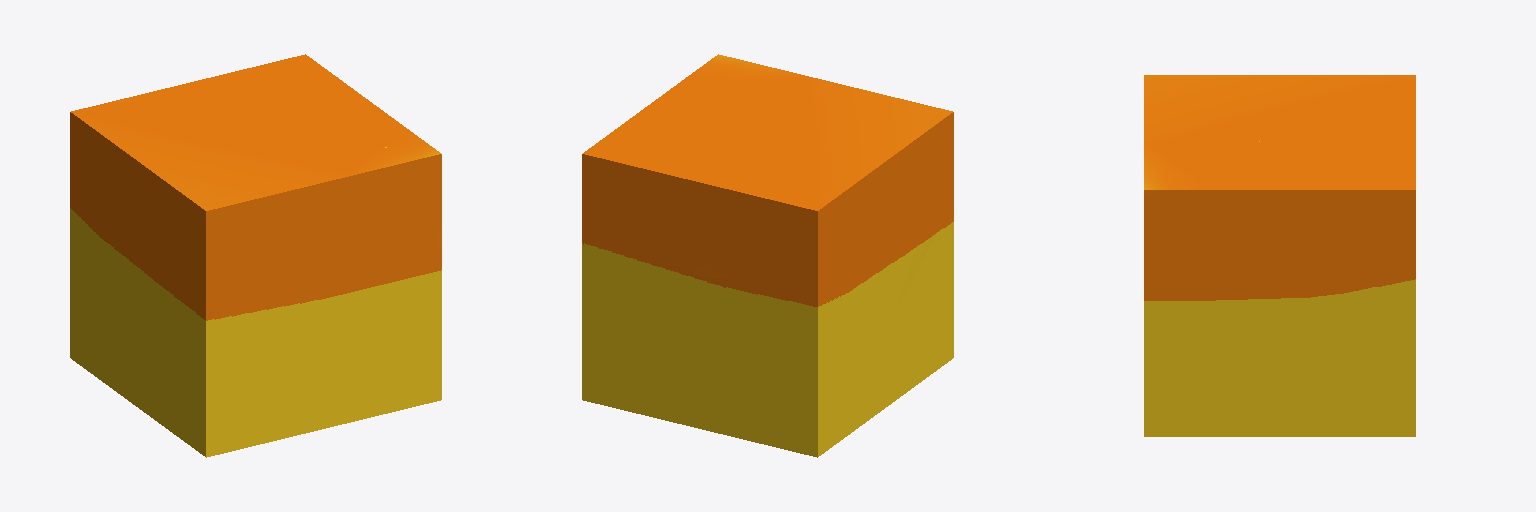
3 renders of one model, left to right at view 1: azimuth 30°, elevation 25°; view 2: azimuth 150°, elevation 25°; view 3: azimuth 270°, elevation 25°, orthographic.
Parts seen in each view (by area): view 1: Cube; view 2: Cube; view 3: Cube.
Part boxes in pixels (bbox=[...]): Cube: bbox=[70, 54, 441, 457]; Cube: bbox=[582, 54, 953, 457]; Cube: bbox=[1144, 75, 1415, 436].
Bounding box in the file's own units: 1 × 1 × 1.
Materials: 1 (1 with a texture image).